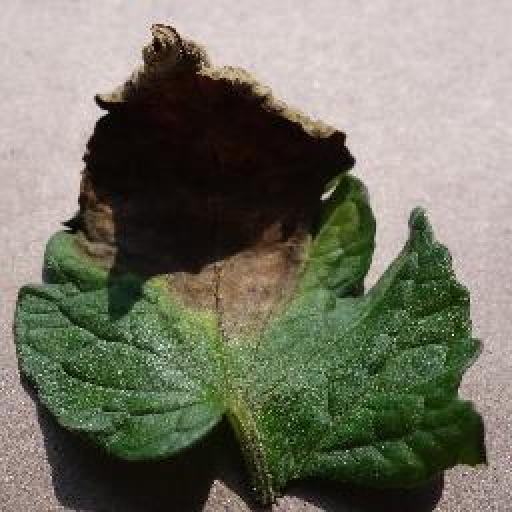Late Blight: (14, 19, 490, 492)
